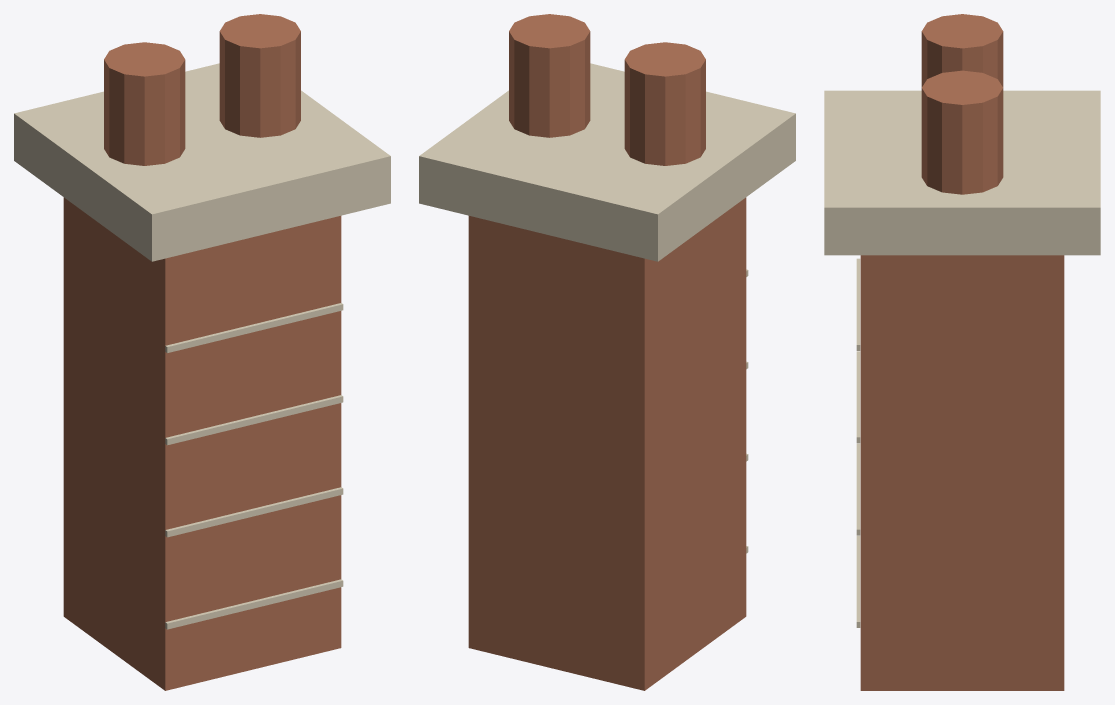
Rendered from chimney.glb.
3 views of the same model, side by side, from view 1: azimuth 30°, elevation 25°; view 2: azimuth 150°, elevation 25°; view 3: azimuth 270°, elevation 25° (orthographic).
Visible parts, largest first — view 1: Chimney, Chimney crown, Chimney pot.001, Chimney pot, Mortar band.001, Mortar band.003, Mortar band, Mortar band.002; view 2: Chimney, Chimney crown, Chimney pot.001, Chimney pot; view 3: Chimney, Chimney crown, Chimney pot.001, Chimney pot, Mortar band.001, Mortar band.002, Mortar band.003, Mortar band.
Part boxes in pixels (x1,y1,x2,y2): Chimney: (63, 197, 341, 690); Chimney crown: (14, 63, 390, 261); Chimney pot.001: (219, 14, 300, 137); Chimney pot: (104, 42, 185, 165); Mortar band.001: (165, 487, 343, 537); Mortar band.003: (165, 303, 343, 353); Mortar band: (165, 579, 343, 629); Mortar band.002: (165, 395, 343, 445); Chimney: (468, 197, 746, 690); Chimney crown: (419, 63, 795, 261); Chimney pot.001: (509, 14, 590, 137); Chimney pot: (624, 42, 705, 165); Chimney: (860, 255, 1064, 690); Chimney crown: (824, 90, 1100, 255); Chimney pot.001: (921, 70, 1003, 194); Chimney pot: (921, 14, 1003, 87); Mortar band.001: (856, 443, 860, 535); Mortar band.002: (856, 351, 860, 443); Mortar band.003: (856, 258, 860, 350); Mortar band: (856, 536, 860, 627).
Size of the model in its own units: 0.95 by 2.23 by 0.95.
